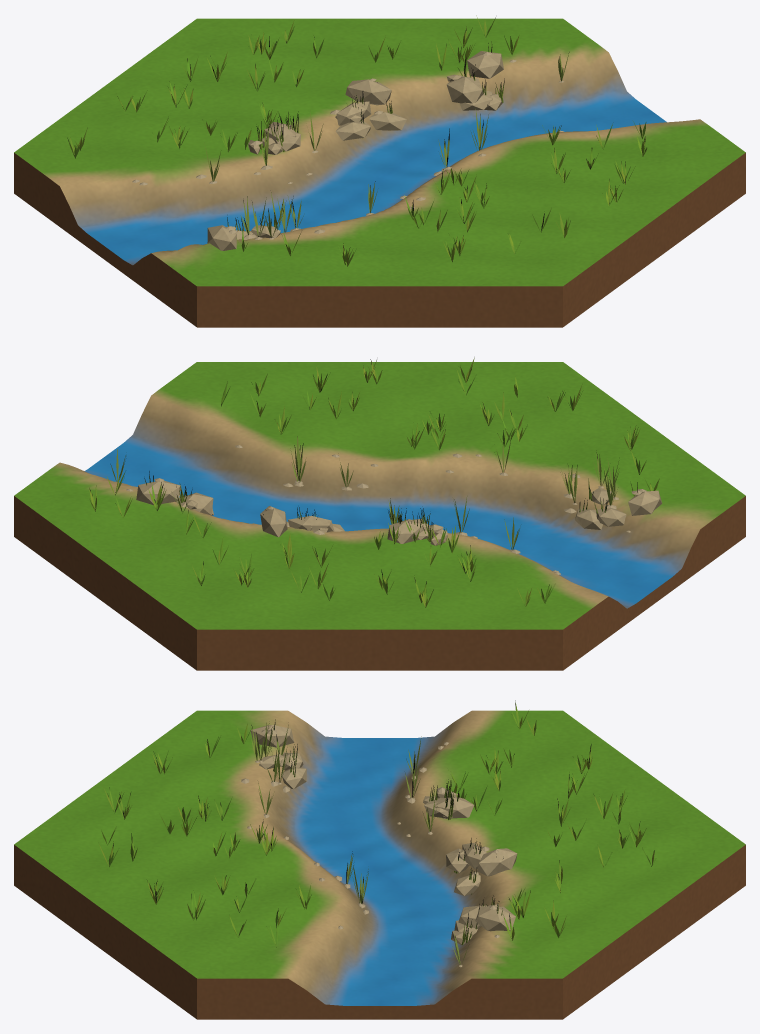
Rendered from SM_RioNatural_A_Detalle_LOD0.fbx.
3 renders of one model, top to bottom at view 1: azimuth 30°, elevation 25°; view 2: azimuth 150°, elevation 25°; view 3: azimuth 270°, elevation 25°, orthographic.
Parts seen in each view (by area): view 1: SM_RioNatural_A_Detalle_LOD0; view 2: SM_RioNatural_A_Detalle_LOD0; view 3: SM_RioNatural_A_Detalle_LOD0.
Part boxes in pixels (x1,y1,x2,y2): SM_RioNatural_A_Detalle_LOD0: [14, 15, 745, 327]; SM_RioNatural_A_Detalle_LOD0: [14, 357, 745, 670]; SM_RioNatural_A_Detalle_LOD0: [14, 700, 745, 1019].
Size of the model in its own units: 1.68 by 0.2465 by 1.94.
1 material, 1 textured.
